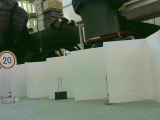speed_20: (1, 48, 18, 71)
